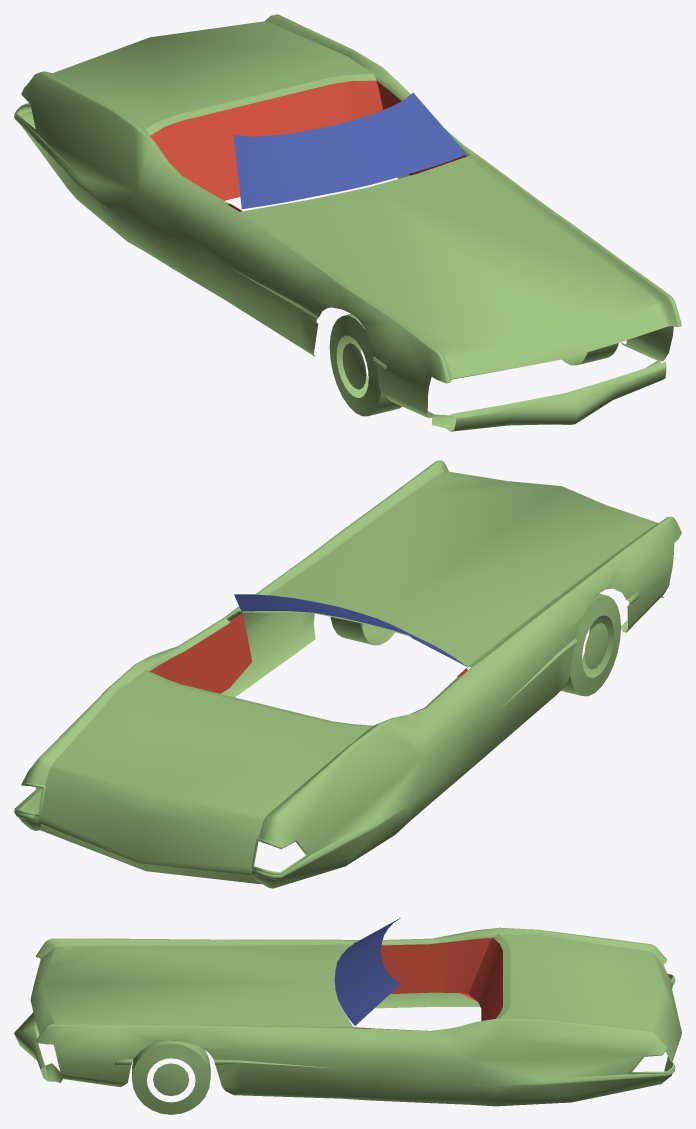
File: car sedan lod 2.FBX
The picture shows the model from 3 angles, top to bottom: view 1: azimuth 30°, elevation 25°; view 2: azimuth 150°, elevation 25°; view 3: azimuth 270°, elevation 25°; orthographic projection. The views are drawn at different scales.
Parts seen in each view (by area): view 1: Group008, Cylinder016; view 2: Group008, Cylinder016, Cylinder017; view 3: Group008, Cylinder017.
Boxes of the visible parts, bbox=[...] form: Group008: bbox=[14, 14, 681, 431]; Cylinder016: bbox=[329, 313, 402, 416]; Group008: bbox=[14, 460, 681, 888]; Cylinder016: bbox=[561, 593, 620, 696]; Cylinder017: bbox=[330, 617, 394, 645]; Group008: bbox=[14, 918, 681, 1106]; Cylinder017: bbox=[132, 1040, 210, 1114].
Bounding box in the file's own units: 3.47 × 1.76 × 8.87.
